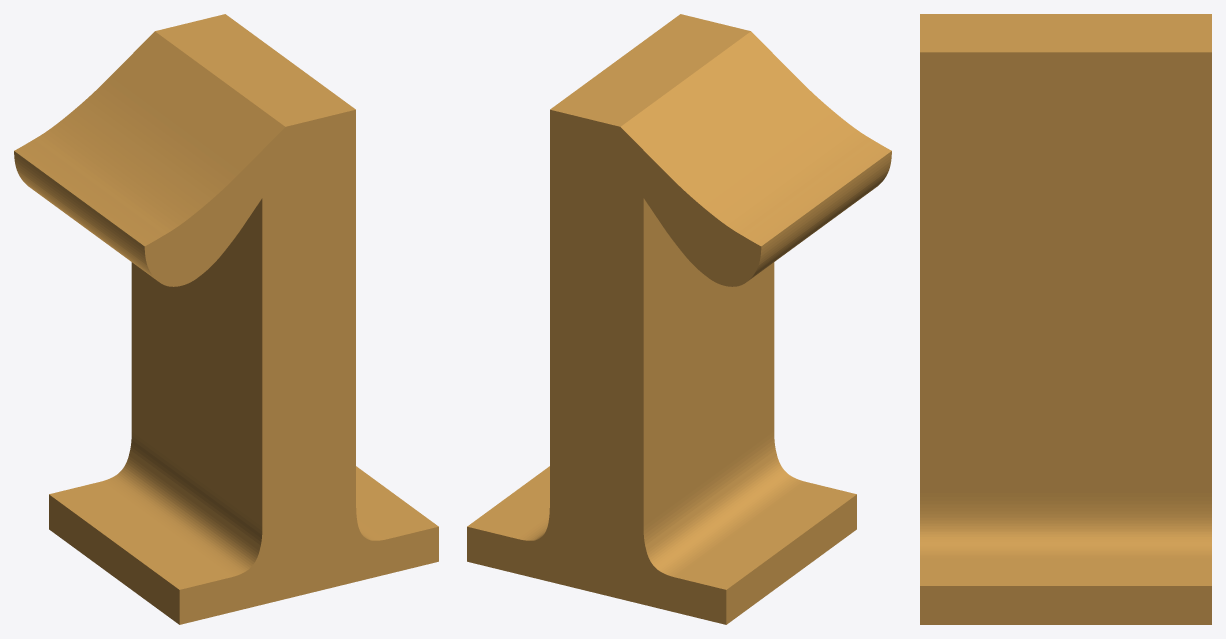
File: number1.glb
3 views of the same model, side by side, from view 1: azimuth 30°, elevation 25°; view 2: azimuth 150°, elevation 25°; view 3: azimuth 270°, elevation 25° (orthographic). The views are drawn at different scales.
Parts seen in each view (by area): view 1: Mesh_Mesh_head_geo.001_lambert2SG.001; view 2: Mesh_Mesh_head_geo.001_lambert2SG.001; view 3: Mesh_Mesh_head_geo.001_lambert2SG.001.
Boxes of the visible parts, x1,y1,x2,y2 form: Mesh_Mesh_head_geo.001_lambert2SG.001: (14, 14, 438, 624); Mesh_Mesh_head_geo.001_lambert2SG.001: (467, 14, 891, 624); Mesh_Mesh_head_geo.001_lambert2SG.001: (920, 14, 1211, 624).
Size of the model in its own units: 13 by 19.94 by 10.
